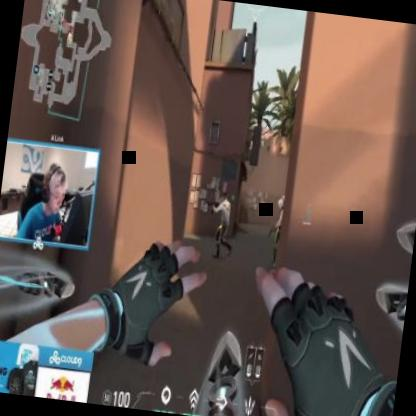enemy: (206, 190, 238, 262), (264, 193, 291, 270)
enemy_head: (220, 192, 228, 203), (276, 198, 284, 209)
